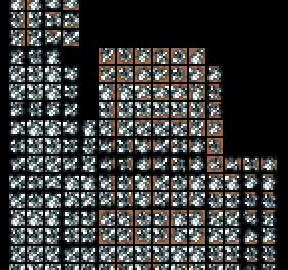silver: (260, 244, 278, 262), (260, 208, 278, 226), (260, 172, 278, 190), (260, 190, 278, 208), (152, 64, 170, 82), (116, 64, 134, 82), (134, 64, 152, 82), (134, 82, 152, 100), (116, 82, 134, 100), (98, 100, 116, 118), (116, 100, 134, 118), (98, 118, 116, 136), (134, 118, 152, 136), (134, 136, 152, 154), (134, 190, 152, 208), (134, 208, 152, 226), (134, 244, 152, 262), (116, 244, 134, 262), (116, 208, 134, 226), (98, 244, 116, 262), (80, 208, 98, 226), (80, 190, 98, 208), (80, 118, 98, 136), (62, 244, 80, 262), (62, 208, 80, 226), (62, 190, 80, 208), (62, 136, 80, 154), (62, 118, 80, 136), (62, 100, 80, 118), (62, 82, 80, 100), (44, 244, 62, 262), (44, 226, 62, 244), (44, 208, 62, 226), (44, 118, 62, 136), (26, 64, 44, 82), (26, 82, 44, 100), (26, 118, 44, 136), (26, 136, 44, 154), (26, 244, 44, 262), (260, 226, 278, 243), (260, 155, 278, 172), (243, 244, 260, 262), (243, 208, 260, 226), (243, 190, 260, 208), (225, 190, 242, 208), (225, 208, 242, 226), (225, 244, 242, 262), (206, 244, 223, 262), (207, 226, 224, 244), (207, 208, 224, 226), (207, 190, 224, 208), (207, 118, 224, 136), (207, 100, 224, 118), (207, 82, 224, 100), (207, 64, 224, 82), (189, 244, 206, 262), (171, 244, 188, 262), (153, 244, 170, 262), (153, 226, 170, 244), (189, 208, 206, 226), (171, 208, 188, 226), (171, 190, 188, 208), (153, 190, 170, 208), (153, 208, 170, 226), (189, 190, 206, 208), (171, 154, 188, 172), (189, 118, 206, 136), (171, 118, 188, 136), (153, 118, 170, 136), (189, 100, 206, 118), (171, 100, 188, 118), (153, 100, 170, 118), (153, 82, 170, 100), (189, 82, 206, 100), (189, 64, 206, 82), (171, 82, 188, 100), (171, 64, 188, 82), (152, 46, 170, 63), (134, 46, 152, 63), (116, 46, 134, 63), (98, 46, 116, 63), (98, 65, 116, 82), (116, 118, 133, 136), (98, 137, 116, 154), (116, 137, 134, 154), (134, 155, 152, 172), (134, 173, 152, 190), (134, 226, 152, 243), (116, 226, 134, 243), (116, 190, 133, 208), (116, 155, 134, 172), (98, 155, 116, 172), (98, 173, 116, 190), (98, 190, 115, 208), (99, 208, 116, 226), (98, 226, 116, 243), (80, 244, 97, 262), (80, 226, 98, 243), (80, 173, 98, 190), (80, 155, 98, 172), (80, 137, 98, 154), (62, 173, 80, 190), (62, 155, 80, 172), (62, 64, 79, 82), (44, 190, 61, 208), (44, 172, 62, 189), (44, 136, 62, 153), (44, 100, 62, 117), (44, 82, 62, 99), (62, 29, 80, 46), (62, 11, 80, 28), (44, 11, 62, 28), (44, 28, 62, 45), (26, 29, 44, 46), (26, 46, 44, 63), (26, 100, 43, 118), (26, 155, 44, 172), (26, 173, 44, 190), (9, 136, 26, 154), (27, 208, 44, 226), (243, 155, 260, 172), (243, 173, 260, 190), (243, 226, 260, 243), (225, 155, 242, 172), (225, 173, 242, 190), (225, 226, 242, 243), (207, 173, 224, 190), (207, 154, 224, 171), (207, 137, 224, 154), (171, 226, 188, 243), (189, 226, 206, 243), (189, 173, 206, 190), (171, 173, 188, 190), (153, 173, 170, 190), (189, 155, 206, 172), (153, 155, 170, 172), (153, 137, 170, 154), (170, 137, 187, 154), (189, 137, 206, 154), (189, 46, 206, 63), (171, 46, 188, 63), (134, 101, 151, 118), (116, 173, 133, 190), (44, 64, 61, 81), (44, 47, 61, 64), (27, 10, 44, 27), (9, 11, 26, 28), (9, 29, 26, 46), (26, 191, 43, 208), (9, 155, 26, 172), (9, 208, 26, 225), (26, 226, 43, 243), (98, 83, 116, 99), (62, 227, 80, 243), (9, 118, 25, 136), (9, 190, 25, 208), (45, 155, 61, 172), (9, 47, 25, 64), (9, 64, 25, 81), (9, 83, 25, 100), (9, 100, 25, 117), (9, 226, 25, 243), (9, 244, 25, 261), (9, 173, 25, 189), (9, 261, 26, 270), (62, 0, 79, 9), (44, 0, 61, 9), (26, 0, 43, 9), (260, 262, 278, 270), (152, 262, 170, 270), (62, 262, 80, 270), (9, 0, 25, 9), (206, 262, 223, 270), (134, 262, 151, 270), (80, 262, 97, 270), (26, 262, 43, 270), (242, 263, 259, 270), (224, 263, 241, 270), (188, 263, 205, 270), (170, 263, 187, 270), (116, 263, 133, 270), (98, 263, 115, 270), (44, 263, 61, 270)
